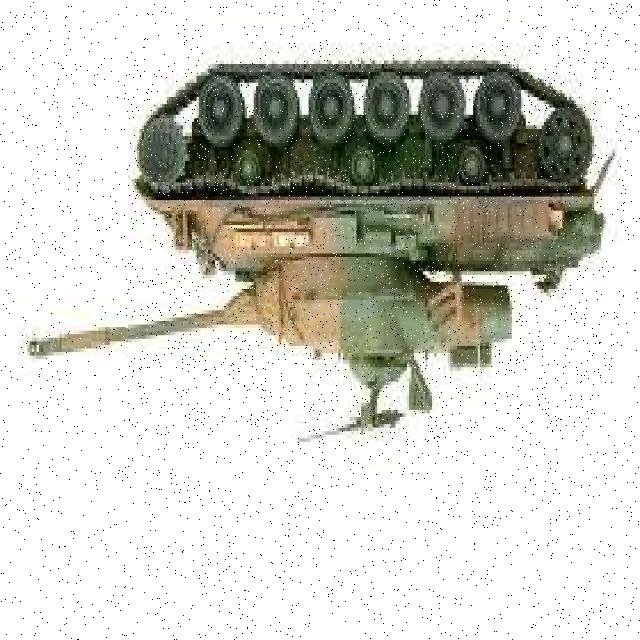MIL_MBT: (126, 65, 601, 444)
